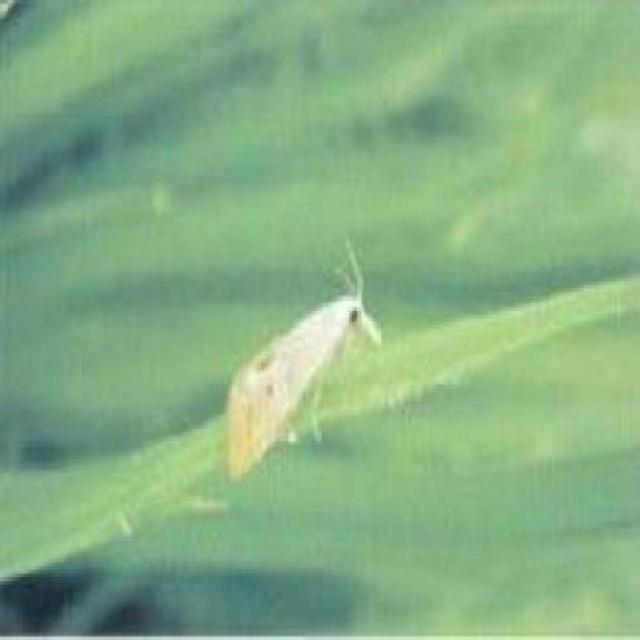stem-borer: (224, 242, 384, 484)
